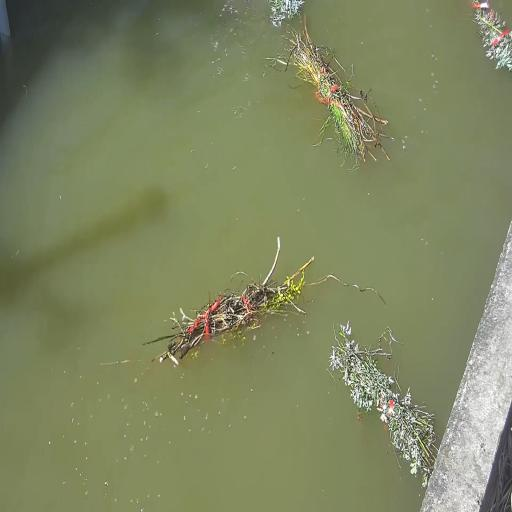twig: (143, 237, 314, 364), (329, 321, 437, 486), (289, 25, 389, 164), (472, 0, 512, 71), (269, 0, 303, 27)
